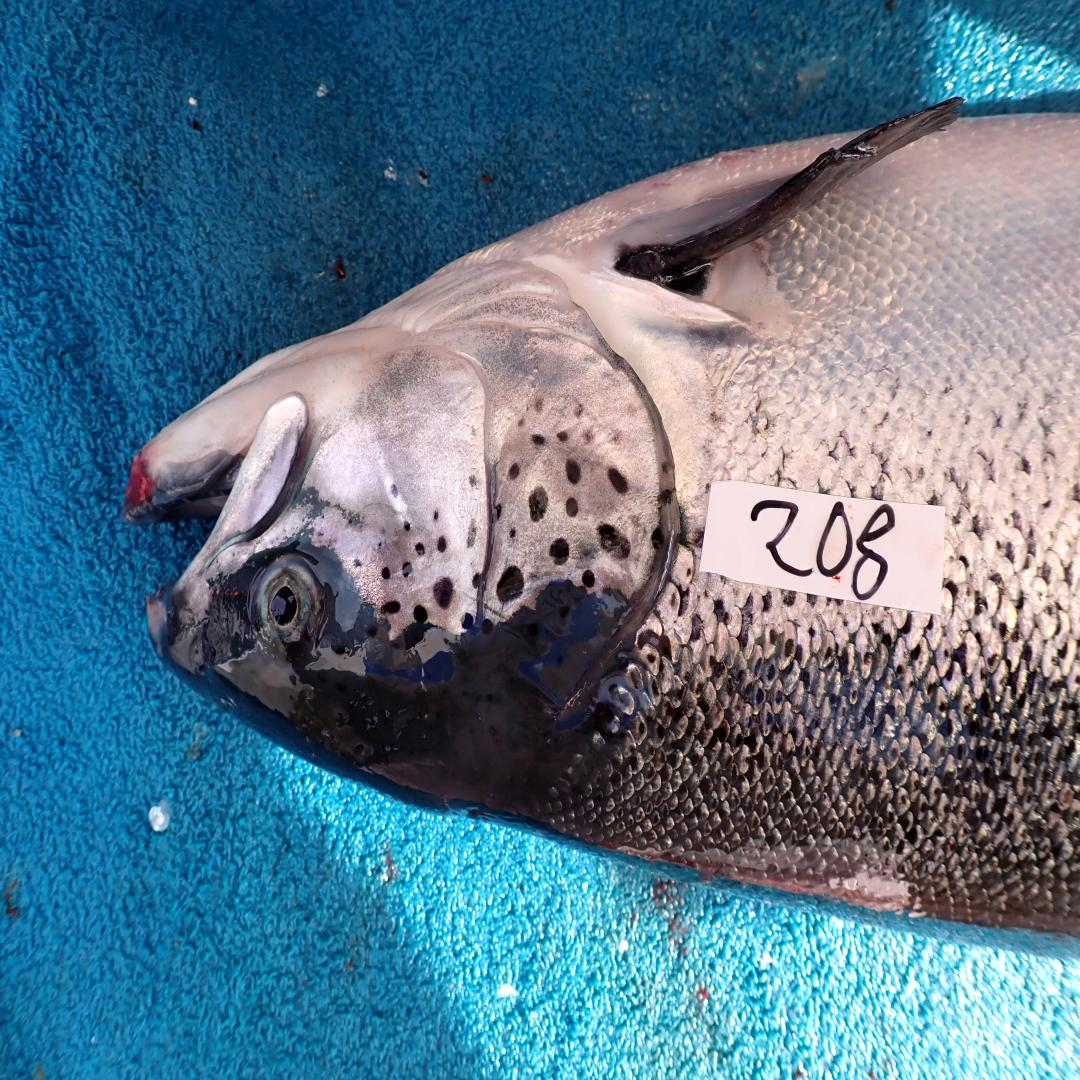roi: (308, 246, 676, 634)
